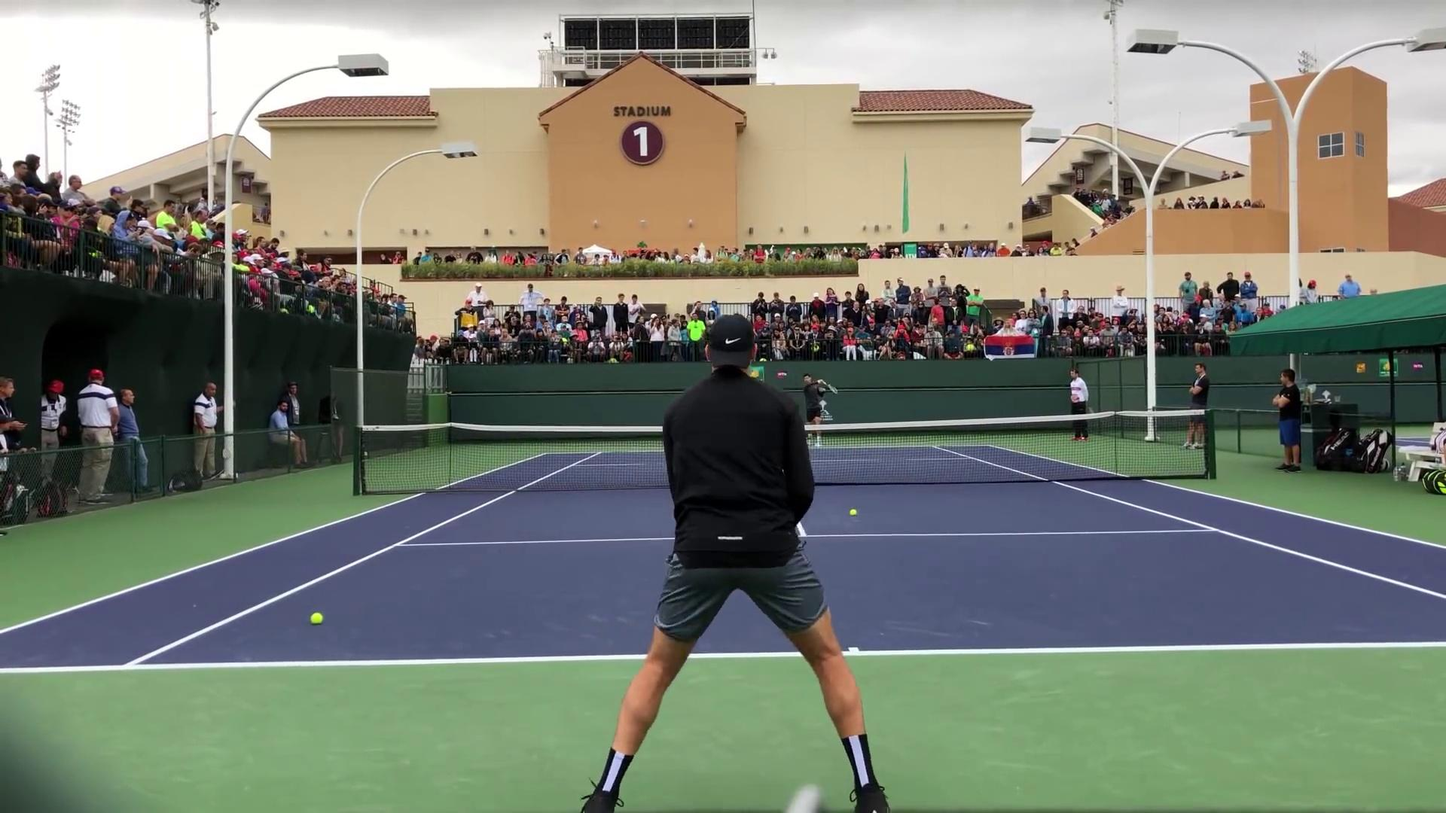ball: (309, 612, 324, 626), (848, 507, 855, 516)
